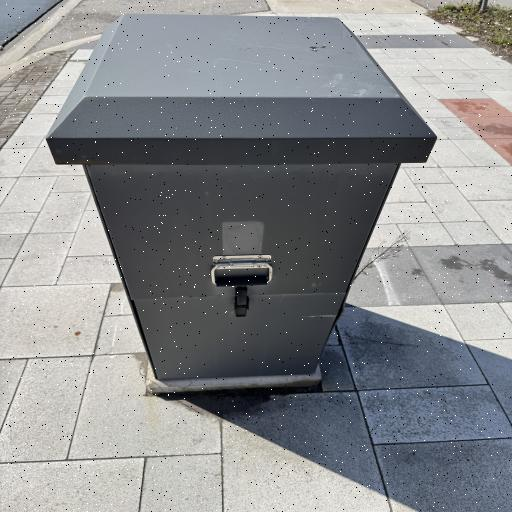Electrical Box: (43, 13, 438, 385)
